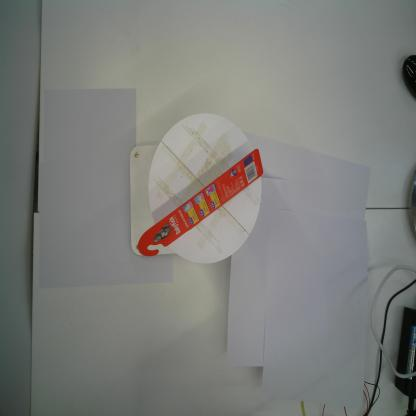Personal Hygiene: (137, 148, 264, 257)
